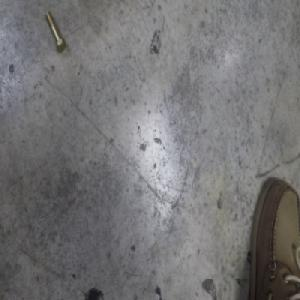Bolt: (46, 10, 67, 53)
